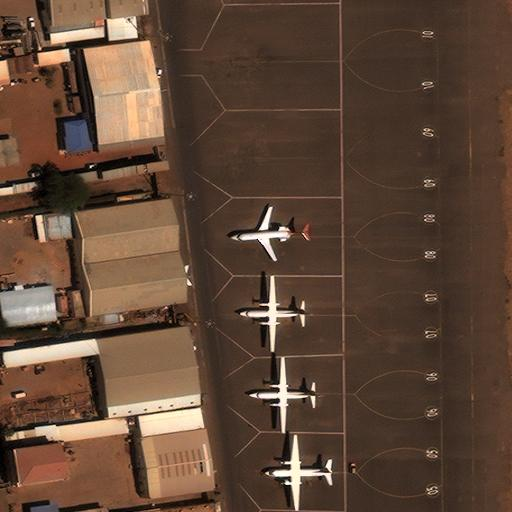Medium Civil Transport: (238, 275, 312, 352), (248, 356, 322, 433), (263, 434, 333, 512), (229, 206, 308, 261)
